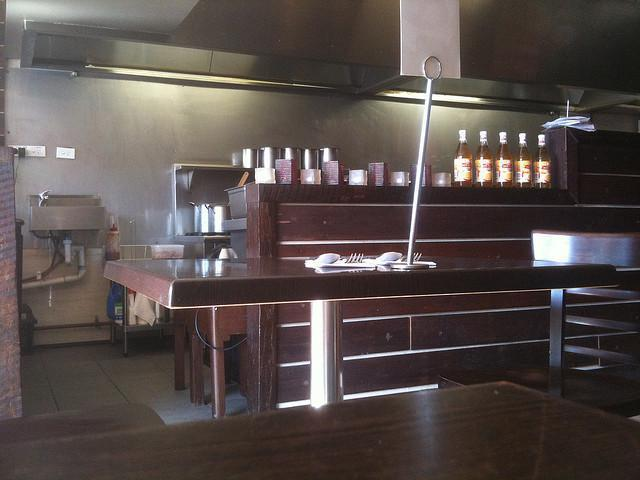Lavaplatos: (32, 184, 105, 237)
